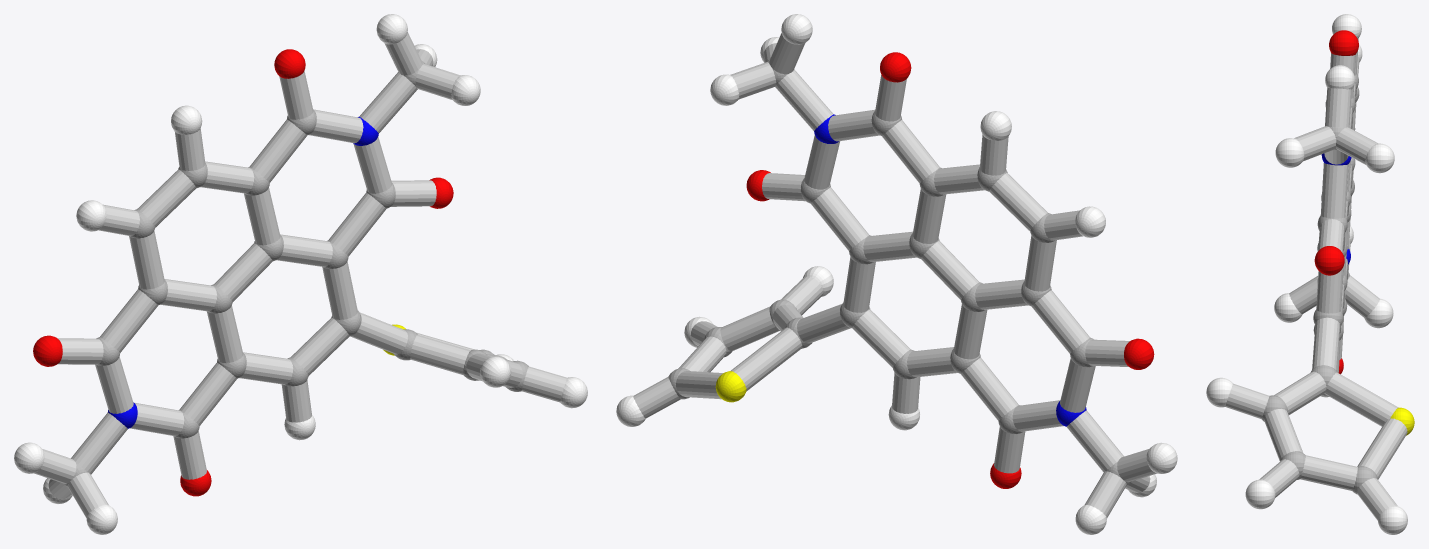
File: Dimethyl_Naphthalene_Dicarboximide_Phi_5_Theta_80_Thiophene.glb
3 views of the same model, side by side, from view 1: azimuth 30°, elevation 25°; view 2: azimuth 150°, elevation 25°; view 3: azimuth 270°, elevation 25° (orthographic). The views are drawn at different scales.
Parts seen in each view (by area): view 1: grp14119, grp7241, grp1, grp12309, grp11585; view 2: grp14119, grp7241, grp1, grp12309, grp13757, grp11585; view 3: grp14119, grp7241, grp1, grp12309, grp13757.
Part boxes in pixels (<box>): grp14119: <box>34,32,567,517</box>; grp7241: <box>14,14,587,534</box>; grp1: <box>63,61,528,487</box>; grp12309: <box>33,49,453,496</box>; grp11585: <box>108,116,378,428</box>; grp14119: <box>633,33,1156,517</box>; grp7241: <box>616,14,1177,534</box>; grp1: <box>668,59,1131,485</box>; grp12309: <box>746,52,1154,488</box>; grp13757: <box>715,371,746,402</box>; grp11585: <box>814,114,1086,426</box>; grp14119: <box>1225,38,1407,520</box>; grp7241: <box>1206,14,1407,534</box>; grp1: <box>1261,74,1377,494</box>; grp12309: <box>1314,30,1358,374</box>; grp13757: <box>1390,407,1414,435</box>.
Bounding box in the file's own units: 11.66 × 8.97 × 4.16.
